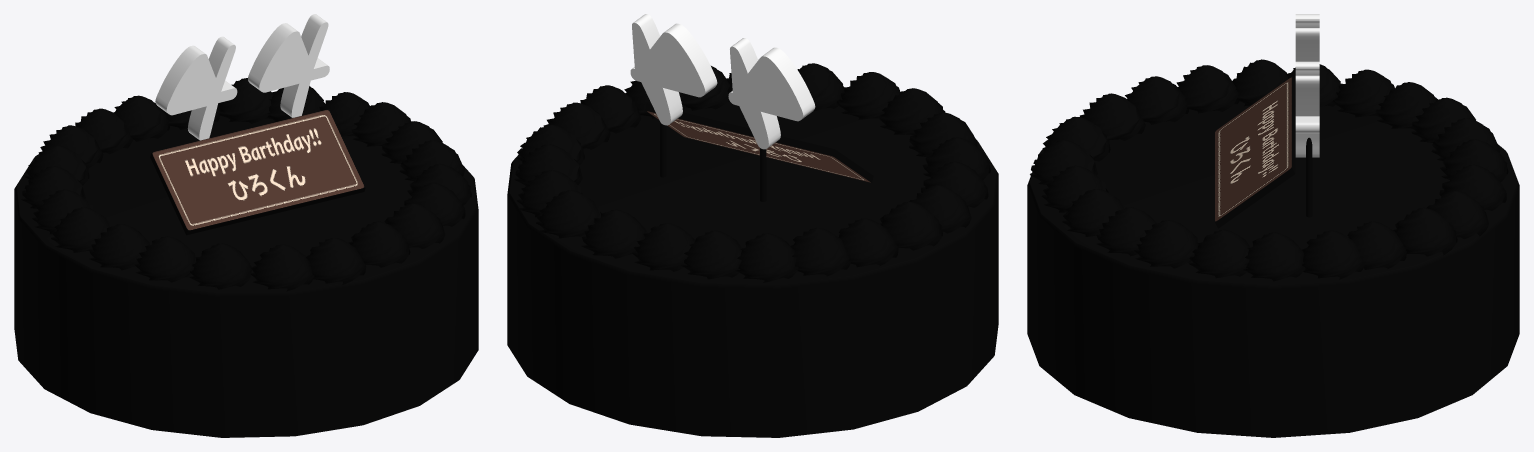
The model's file is Cake_choco.fbx.
3 renders of one model, left to right at view 1: azimuth 30°, elevation 25°; view 2: azimuth 150°, elevation 25°; view 3: azimuth 270°, elevation 25°, orthographic. The views are drawn at different scales.
Parts seen in each view (by area): view 1: Candle:typeMesh3; view 2: Candle:typeMesh3; view 3: Candle:typeMesh3.
Part boxes in pixels (box(x1,y1,x2,y2)): Candle:typeMesh3: box(14, 14, 478, 437); Candle:typeMesh3: box(507, 14, 998, 437); Candle:typeMesh3: box(1027, 14, 1519, 437).
Size of the model in its own units: 1.67 by 1.14 by 1.67.
